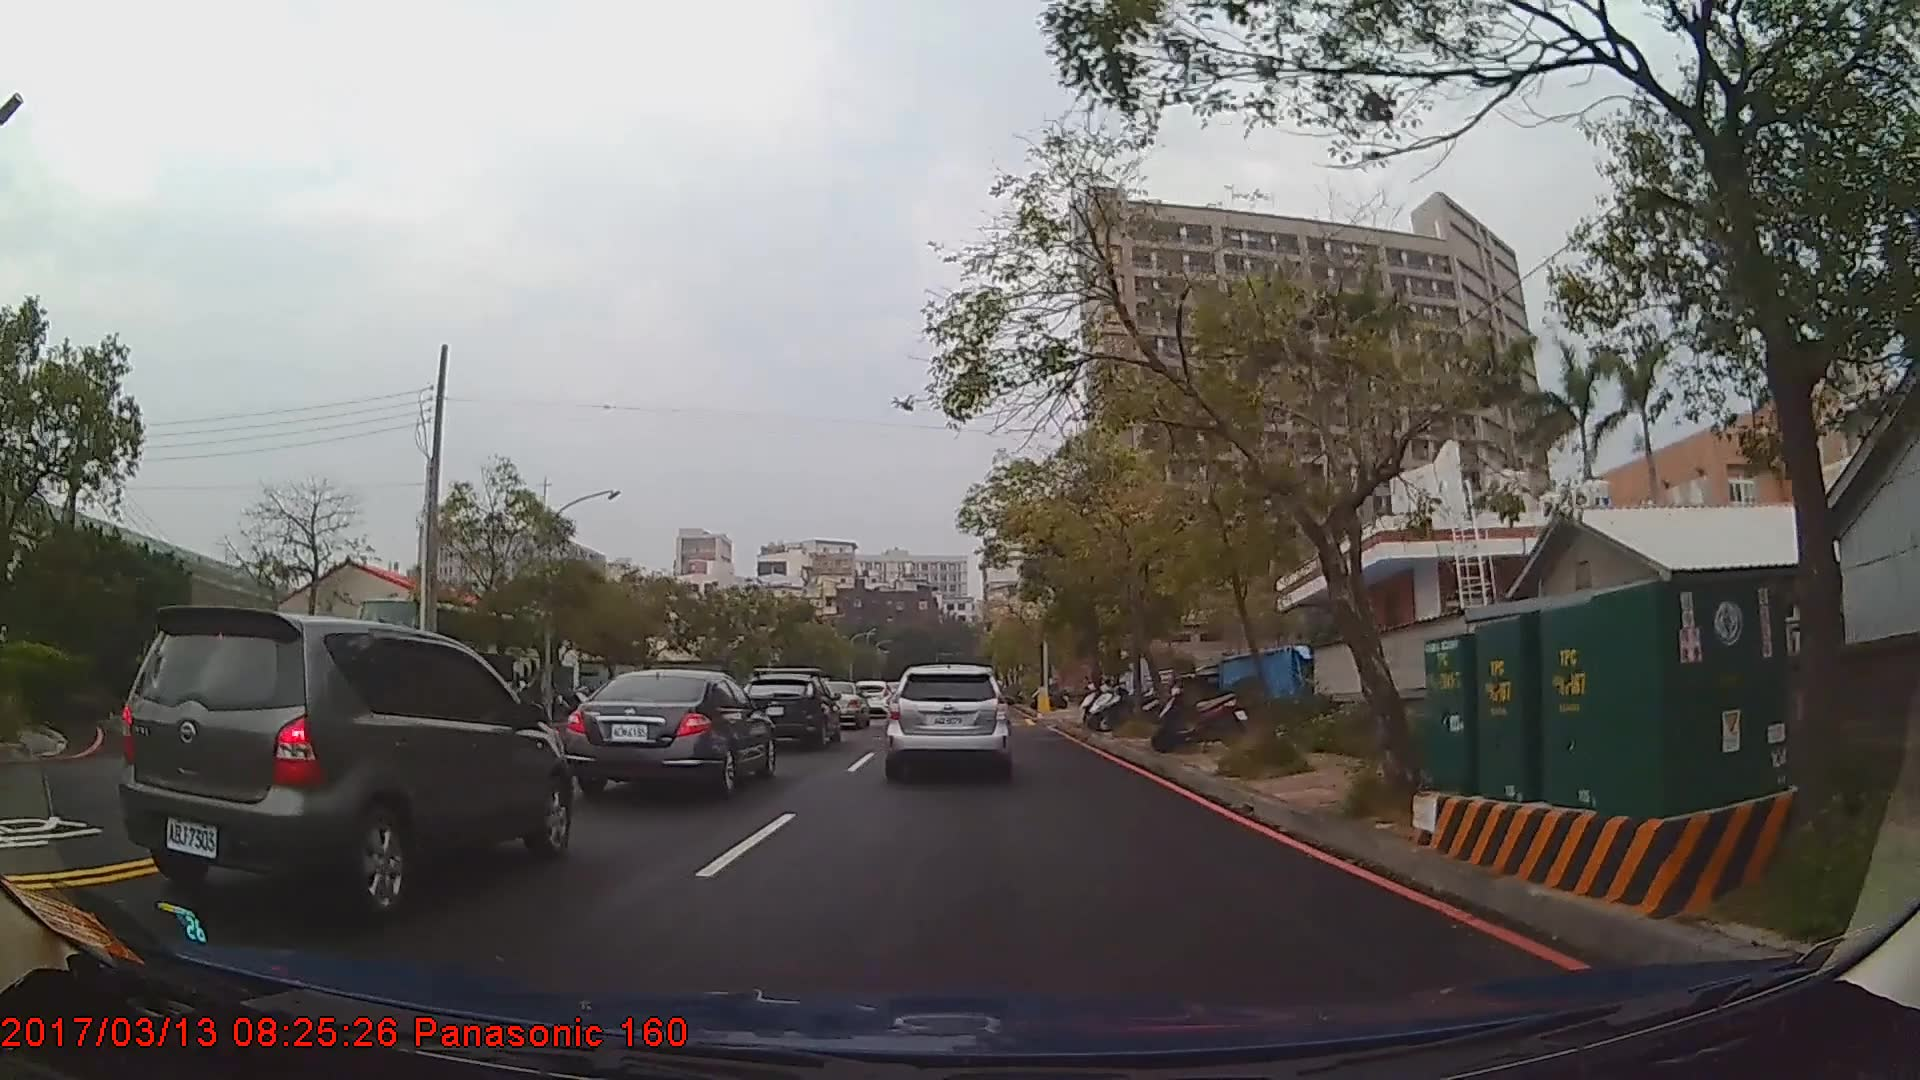vehicle: (115, 604, 572, 924), (564, 669, 778, 800), (884, 666, 1013, 782), (736, 673, 841, 750), (814, 679, 868, 728), (849, 678, 895, 717)
